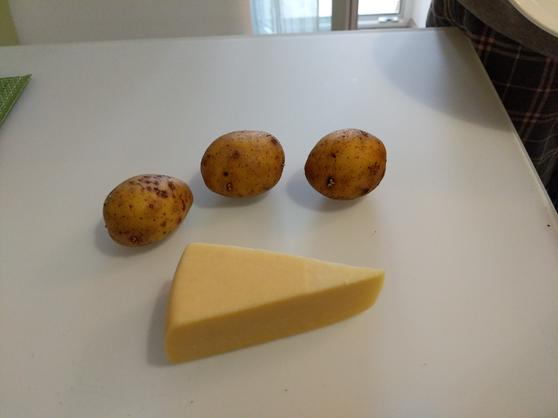cheese: (163, 237, 383, 363)
potato: (101, 173, 195, 247), (305, 128, 387, 201), (200, 128, 284, 198)
